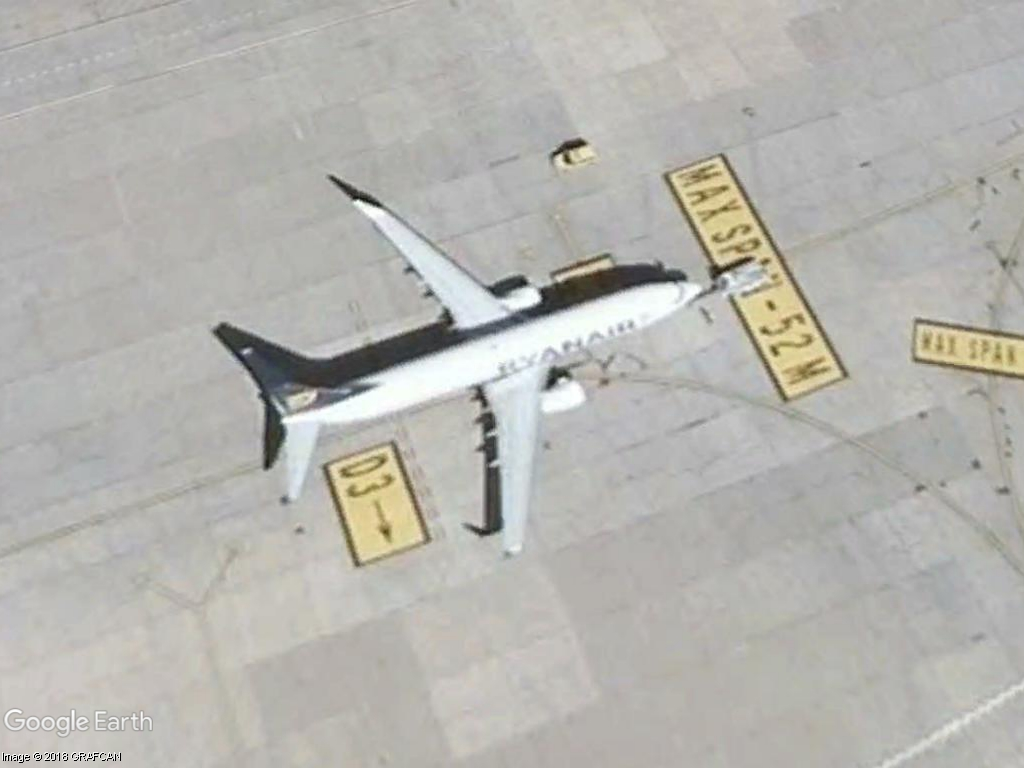airliner: (239, 185, 700, 562)
pushbacktruck: (707, 252, 776, 302)
